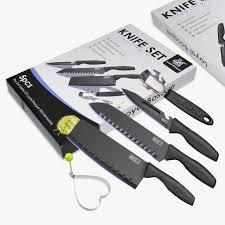knives: (52, 88, 216, 218)
